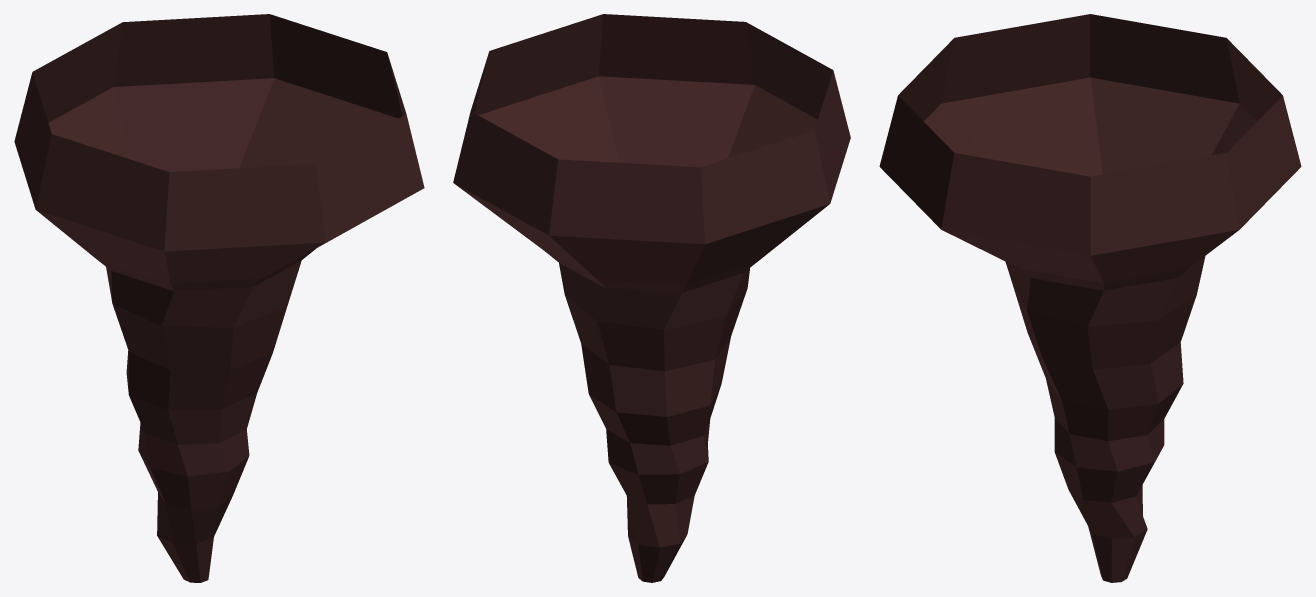
The model's file is stalagtite.glb.
The picture shows the model from 3 angles, left to right: view 1: azimuth 30°, elevation 25°; view 2: azimuth 150°, elevation 25°; view 3: azimuth 270°, elevation 25°; orthographic projection. The views are drawn at different scales.
Parts seen in each view (by area): view 1: Body, Head; view 2: Body, Head; view 3: Body, Head.
Part boxes in pixels (<box>): Body: <box>14,14,424,444</box>; Head: <box>138,422,249,582</box>; Body: <box>453,14,850,445</box>; Head: <box>606,419,710,582</box>; Body: <box>879,14,1301,441</box>; Head: <box>1054,418,1164,582</box>.
Size of the model in its own units: 34.67 by 44.19 by 34.67.
